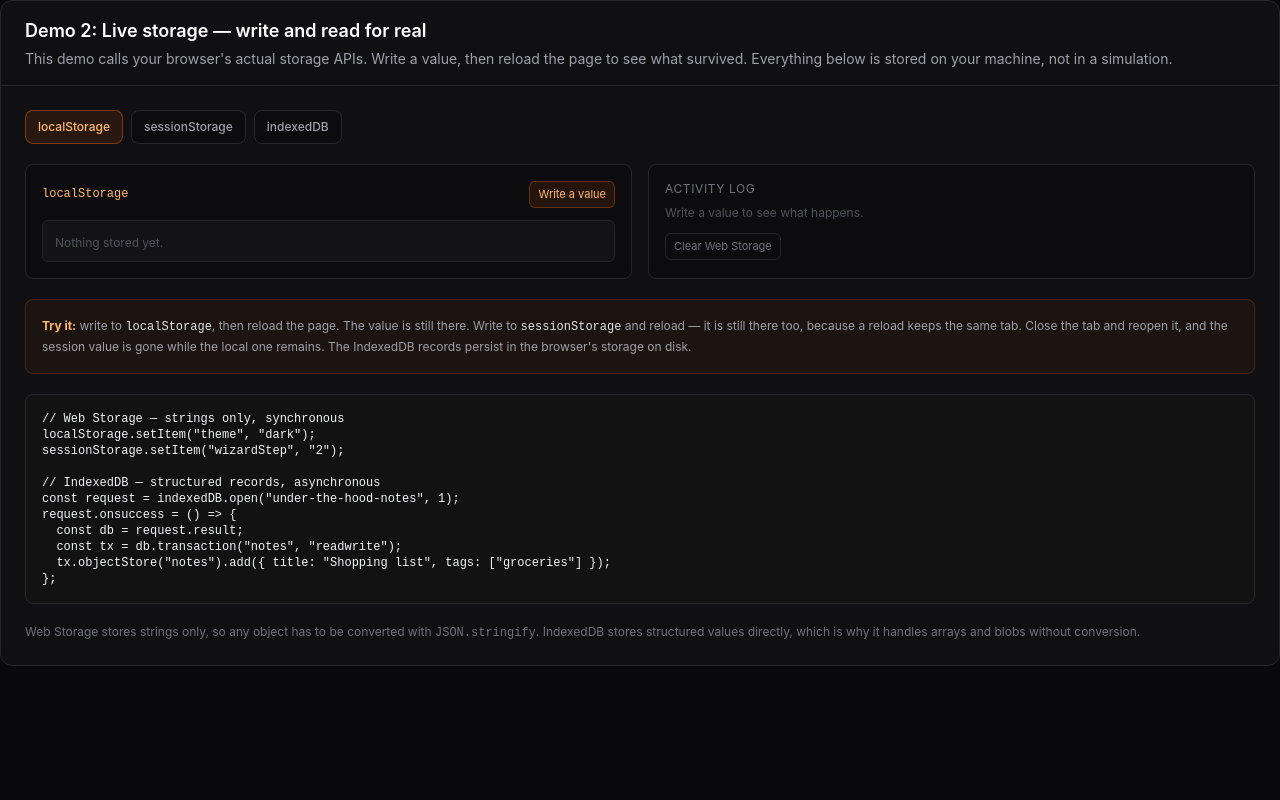
LiveStorageDemo › writes a real localStorage value and reports it
The width and height of the screenshot is (1280, 800).
Step 1. Click the button "Write a value" → {"x": 572, "y": 194}, box [530,181,615,208]
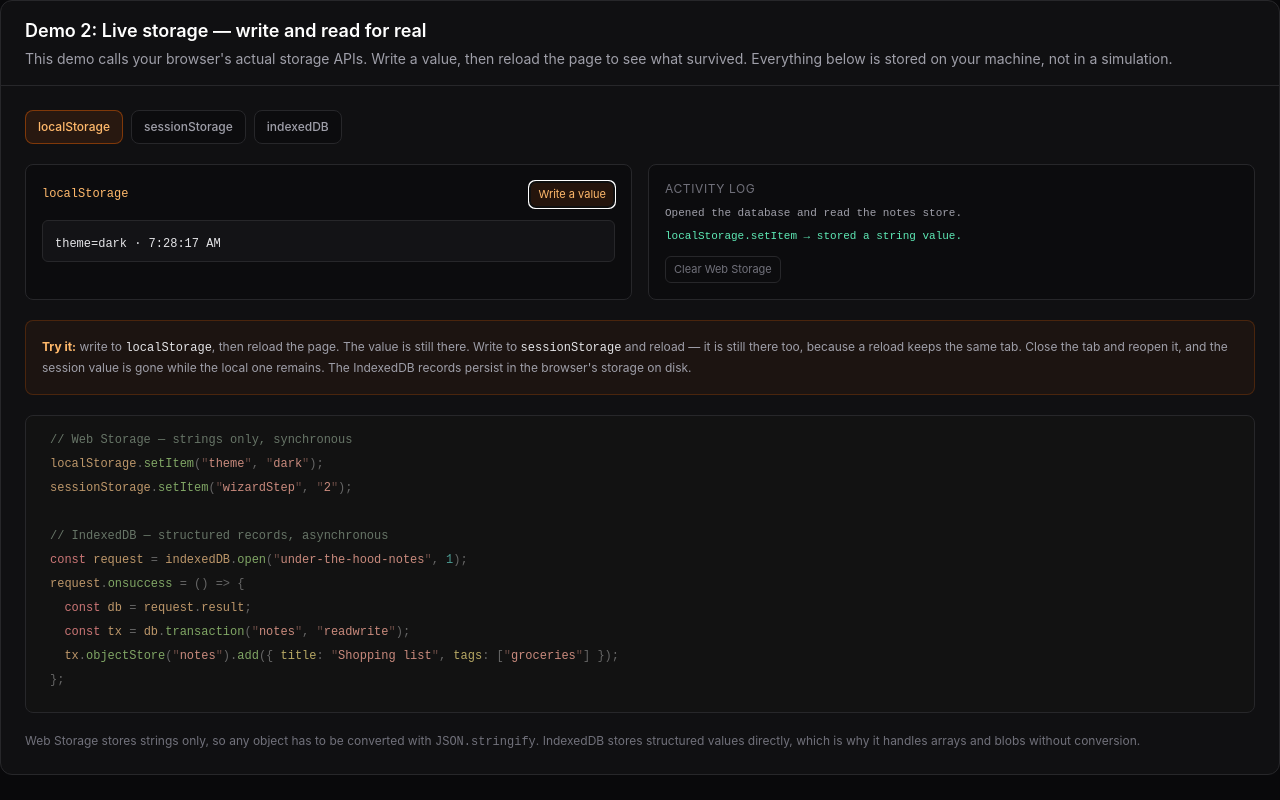
Now the list item "localStorage.setItem → stored a string value." is shown, box [665,230,962,242]
